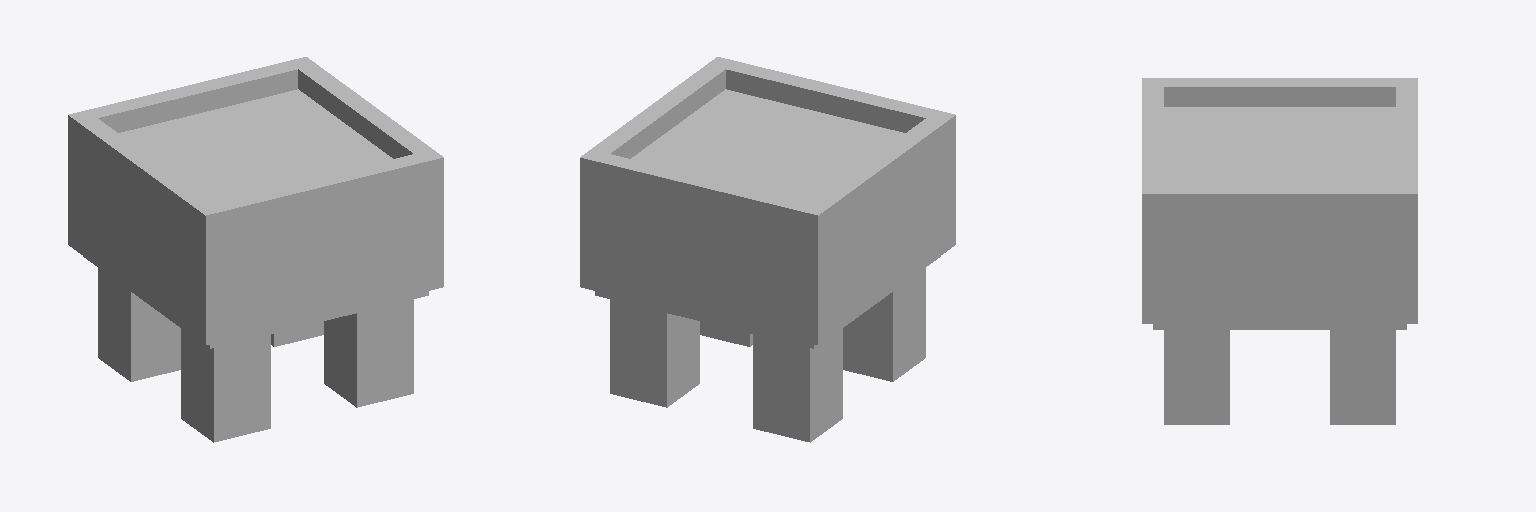
Rendered from crusher.obj.
3 views of the same model, side by side, from view 1: azimuth 30°, elevation 25°; view 2: azimuth 150°, elevation 25°; view 3: azimuth 270°, elevation 25° (orthographic).
Size of the model in its own units: 1 by 0.96 by 1.